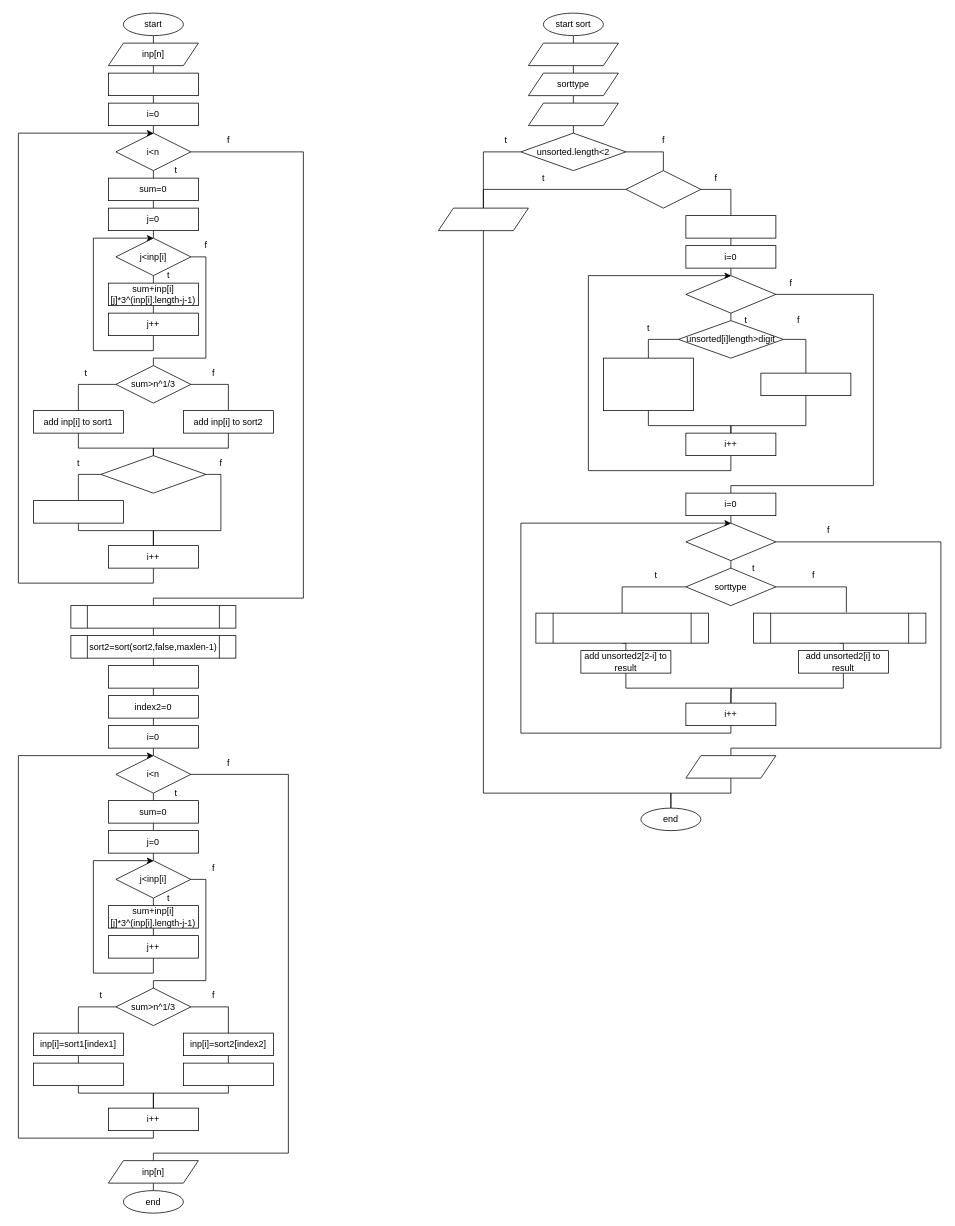
This 955x1226 diagram has some shape labels left out. The shapes that lost their labels are listed below. From the top down, each one's centre as x and y in pixels, then its label:
At pixel 573 54: "unsorted[]".
At pixel 153 84: "maxlen=0".
At pixel 573 114: "digit".
At pixel 663 189: "digit<0".
At pixel 483 219: "unsorted".
At pixel 730 226: "unsorted2[3][]".
At pixel 730 294: "i<unsorted.length".
At pixel 648 384: "add unsorted[i] to unsorted2[unsorted[i][unsorted[i]length-digit-1]".
At pixel 805 384: "add unsorted[i] to unsorted2[0]".
At pixel 153 474: "inp[i]length>maxlen".
At pixel 78 511: "maxlen=inp[i]length".
At pixel 730 541: "i<3".
At pixel 153 616: "sort1=sort(sort1,true,maxlen-1)".
At pixel 621 627: "unsorted2[2-i]=sort(unsorted2[2-i],sorttype,digit<0)".
At pixel 839 627: "unsorted2[i]=sort(unsorted2[i], sorttype,digit<0)".
At pixel 153 676: "index1=0".
At pixel 730 766: "result".
At pixel 78 1074: "index1++".
At pixel 228 1074: "index2++".
